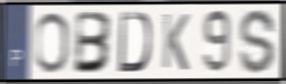9: (200, 7, 233, 76)
B: (72, 10, 115, 76)
D: (116, 11, 153, 74)
K: (160, 11, 191, 73)
O: (34, 10, 71, 75)
S: (238, 7, 278, 76)
